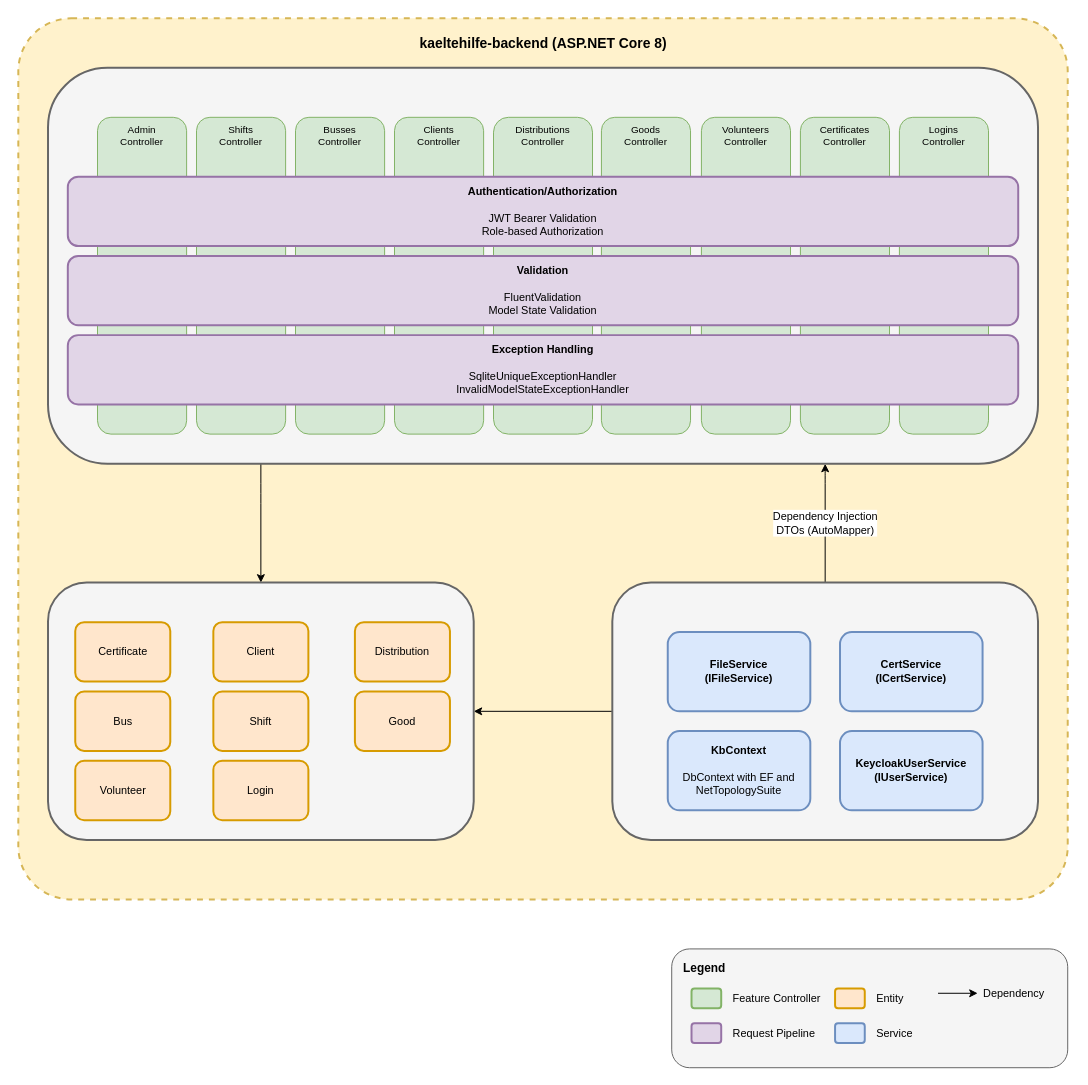
Image size: 1088x1085. Some labels were removed from this diagram. Each missing label, with the box of its shape:
Infrastructure: (611, 581, 1039, 841)
Models: (47, 581, 474, 841)
REST API Layer (Controllers): (47, 66, 1039, 464)
